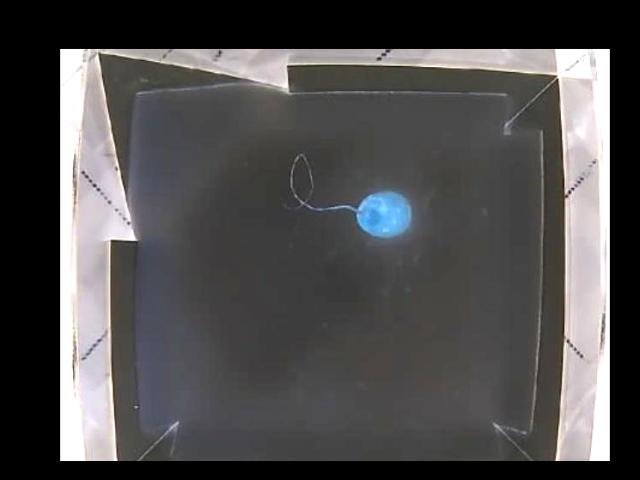Carrot: (353, 187, 411, 236)
